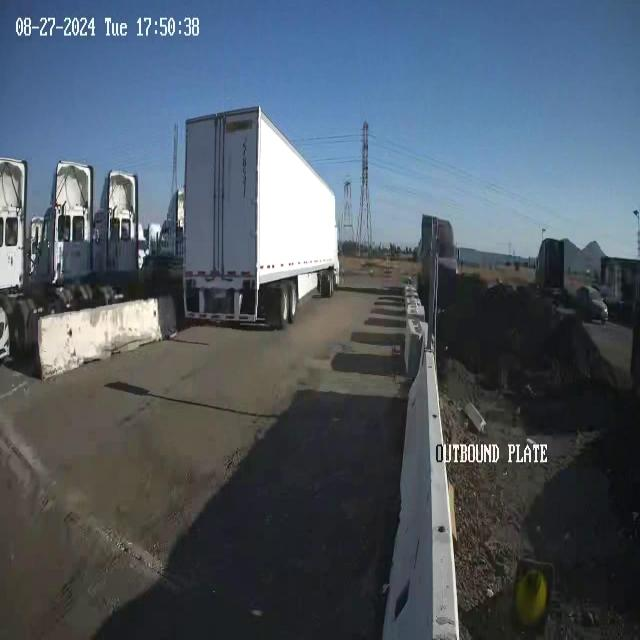CONTAINER: (183, 104, 338, 298)
